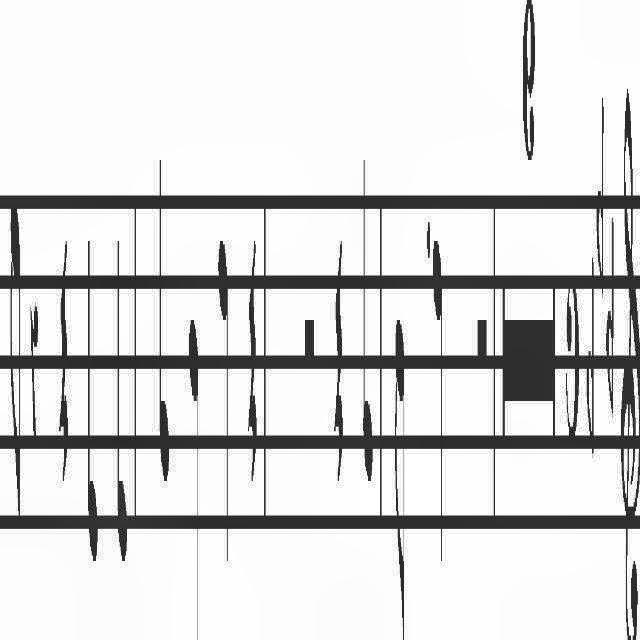Bass-clef: (620, 71, 640, 640)
Bemol: (606, 210, 614, 426), (596, 98, 604, 302), (586, 252, 594, 454)
Eighth-note: (9, 190, 23, 536), (394, 306, 406, 640)
Eighth-rest: (30, 294, 38, 451)
Quarter-note: (157, 136, 171, 494), (85, 227, 98, 573), (218, 220, 230, 580), (362, 136, 374, 492), (116, 228, 128, 576), (189, 315, 201, 640), (432, 228, 443, 566)
Quarter-rest: (59, 228, 70, 488), (247, 242, 257, 482), (335, 228, 343, 492)
